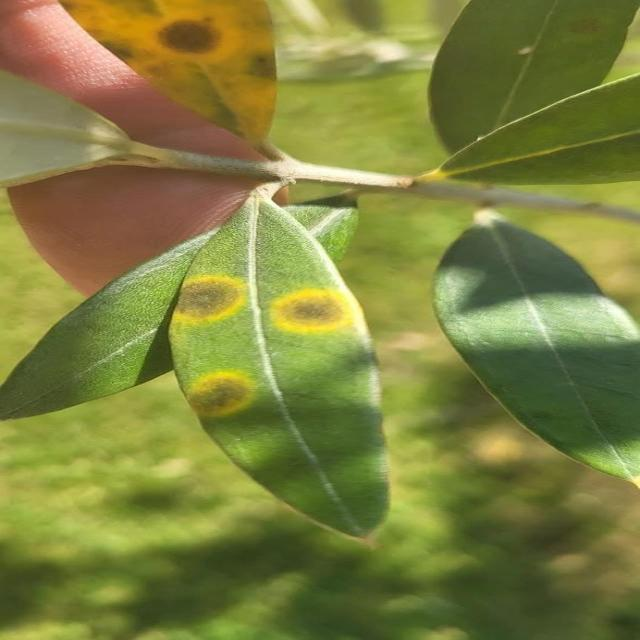OlivePeacockSpot: (168, 198, 388, 538), (58, 0, 278, 159)
